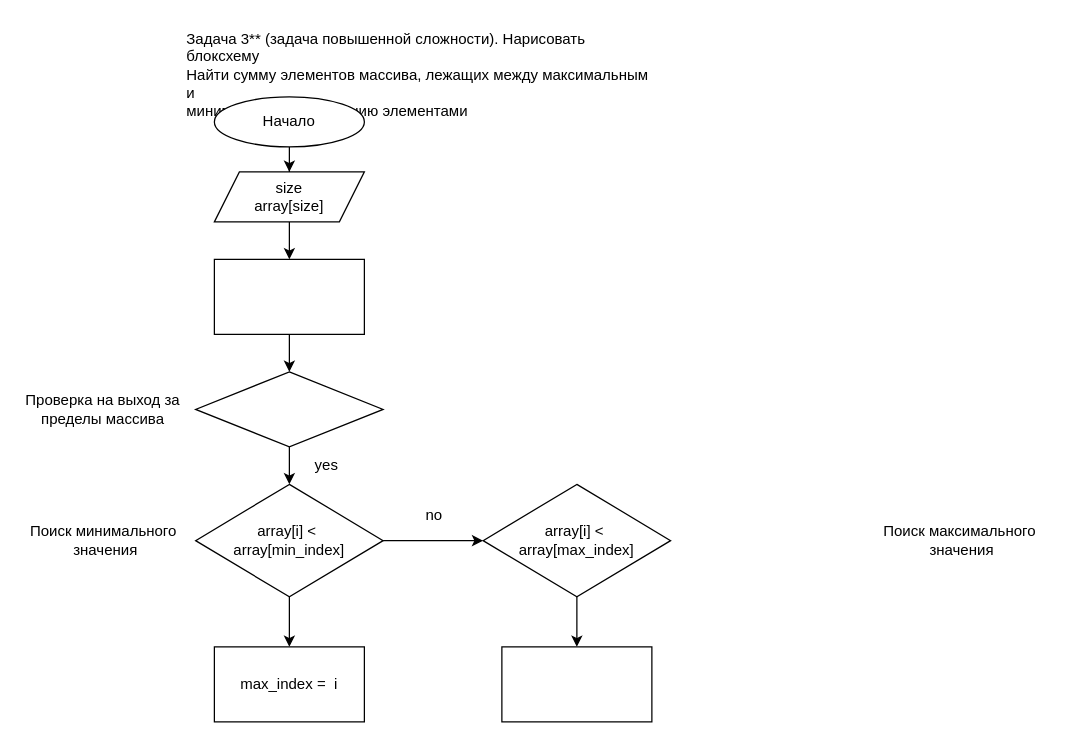
This 1068x744 diagram has some shape labels left out. Here are the shapes that lost their labels. From the top down, the box of each, then its label:
(213, 258, 364, 334): max_index = 0 min_index = 0 summ =0 i = 1
(194, 371, 383, 447): i < size
(501, 646, 652, 722): min_index = i
